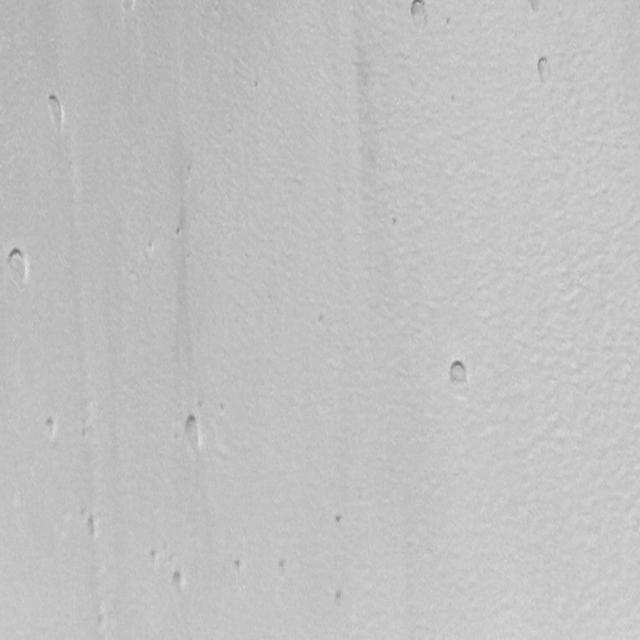pin holes: (40, 90, 67, 135), (2, 244, 30, 286), (180, 413, 206, 454), (446, 356, 472, 389), (532, 55, 554, 86), (406, 0, 429, 27), (40, 414, 60, 442), (81, 515, 101, 542), (312, 308, 332, 331), (142, 238, 161, 262), (168, 570, 186, 595), (387, 212, 408, 233), (525, 0, 546, 19), (118, 0, 140, 15), (276, 557, 290, 575), (94, 612, 108, 630), (333, 512, 348, 528), (333, 589, 347, 606), (232, 557, 246, 574), (148, 548, 161, 565), (218, 401, 232, 416), (172, 225, 184, 240), (443, 16, 457, 28)
